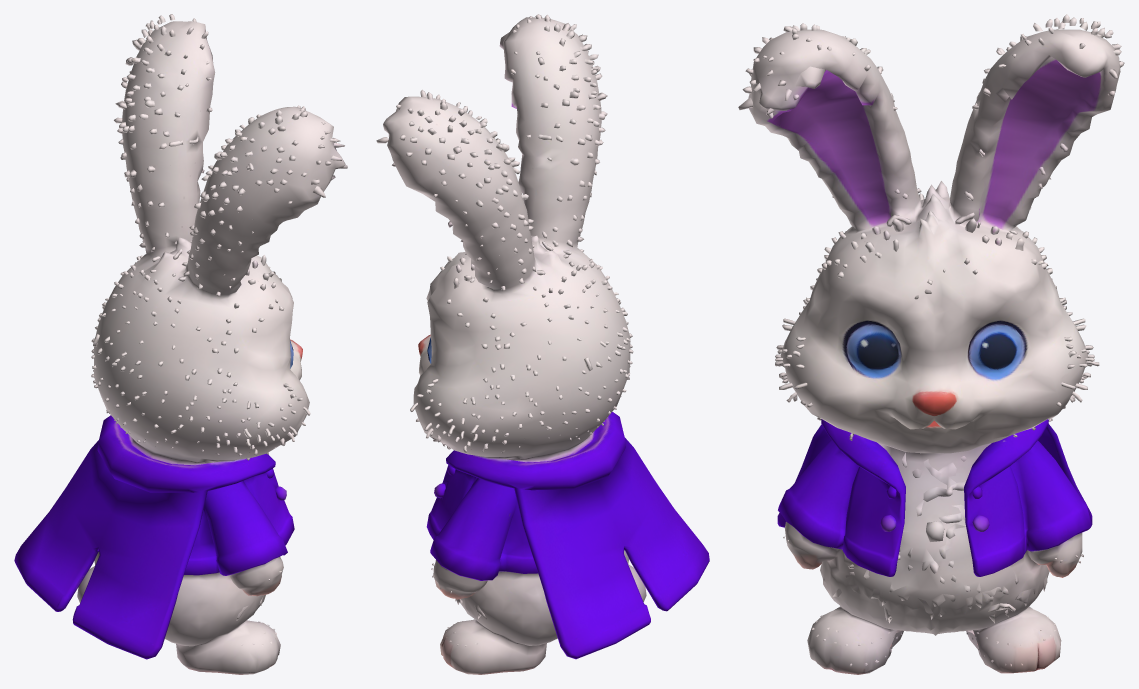
The model's file is snowball.glb.
The picture shows the model from 3 angles, left to right: view 1: azimuth 30°, elevation 25°; view 2: azimuth 150°, elevation 25°; view 3: azimuth 270°, elevation 25°; orthographic projection. The views are drawn at different scales.
Visible parts, largest first — view 1: tripo_node_ec33130c-3828-4d3f-a500-34c3725f0072; view 2: tripo_node_ec33130c-3828-4d3f-a500-34c3725f0072; view 3: tripo_node_ec33130c-3828-4d3f-a500-34c3725f0072.
Boxes of the visible parts, left/top/right/bottom form: tripo_node_ec33130c-3828-4d3f-a500-34c3725f0072: left=14, top=14, right=347, bottom=674; tripo_node_ec33130c-3828-4d3f-a500-34c3725f0072: left=376, top=14, right=709, bottom=674; tripo_node_ec33130c-3828-4d3f-a500-34c3725f0072: left=738, top=14, right=1124, bottom=674.
Size of the model in its own units: 0.4344 by 0.998 by 0.5362.
1 material, 1 textured.
